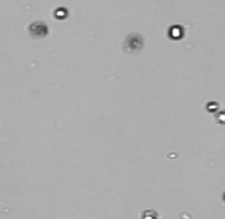Dead Cell: (124, 32, 141, 51), (28, 21, 46, 38)
Living Cell: (169, 24, 184, 40), (53, 7, 68, 19), (206, 101, 218, 112)
